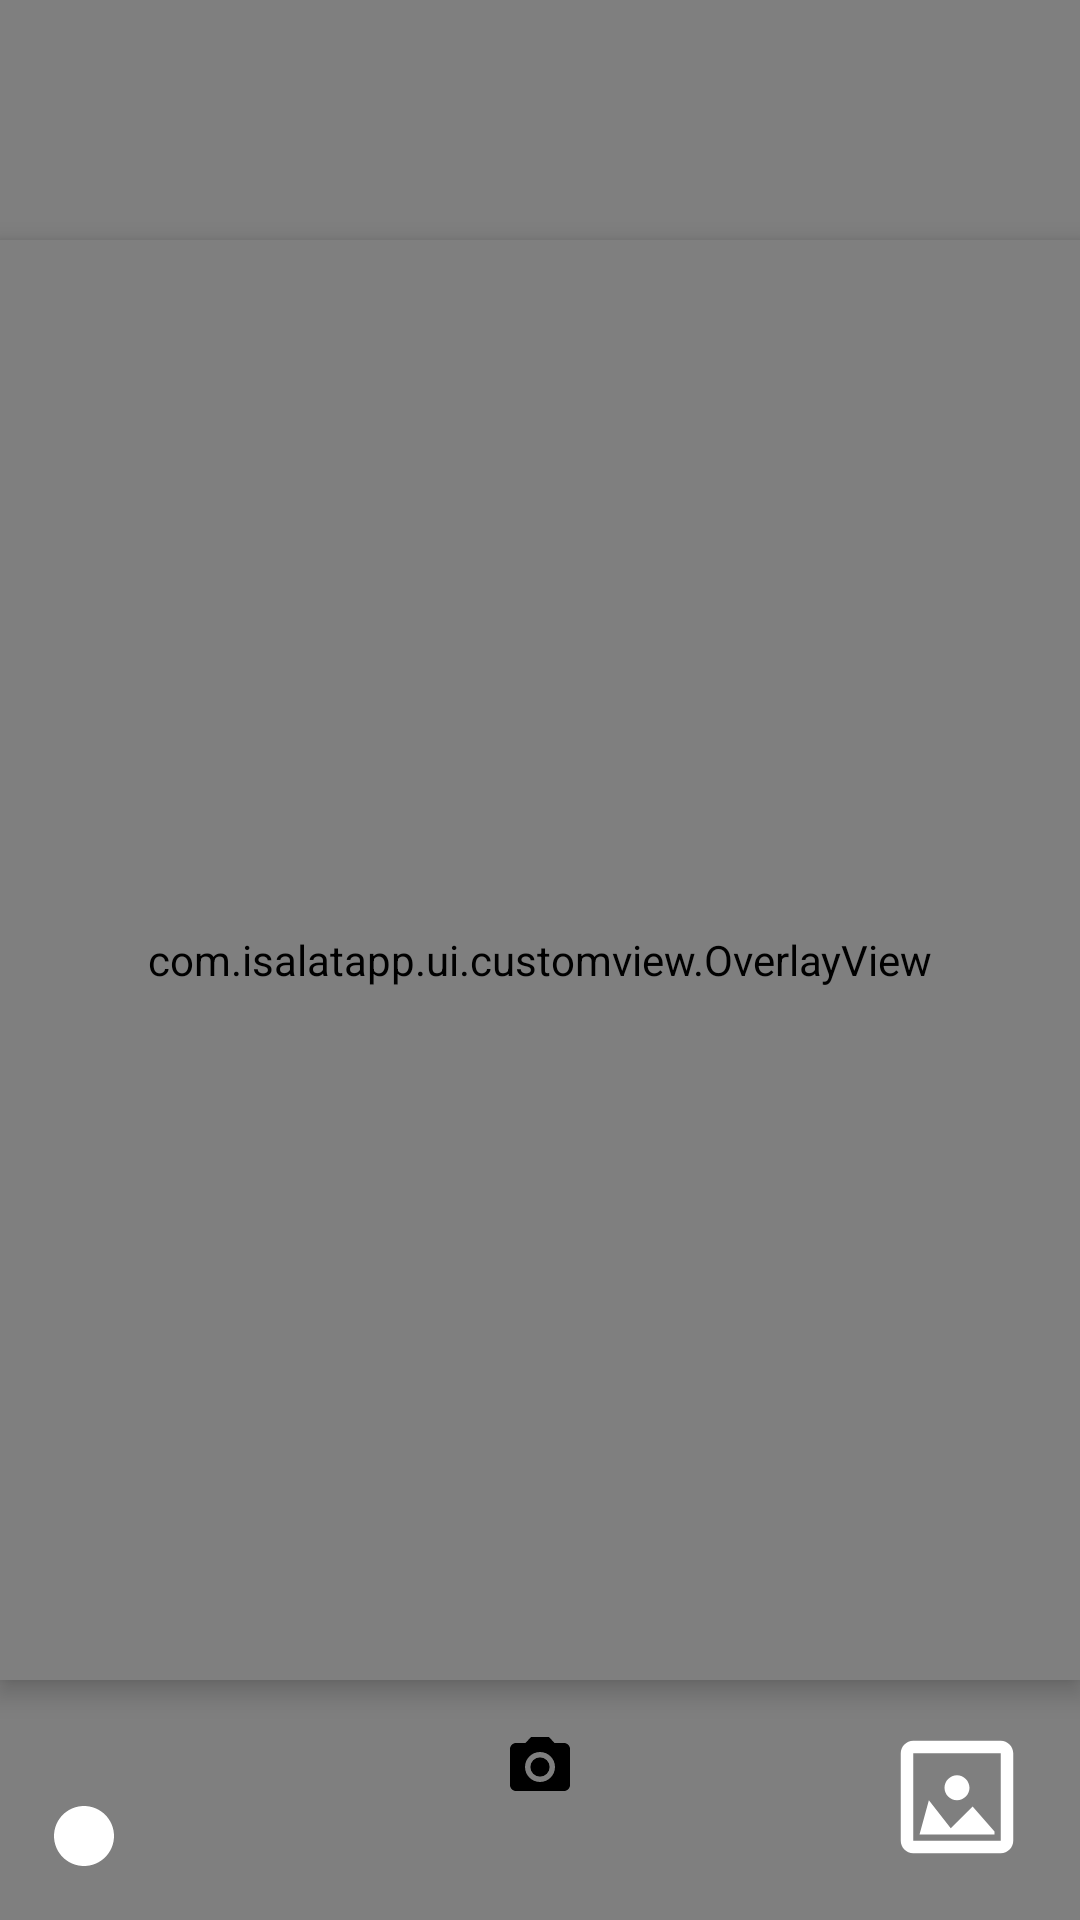

Named icons in this screenshot (1080w x 1920h) and their centers, (x=x, y=y):
Gallery: (x=957, y=1797)
